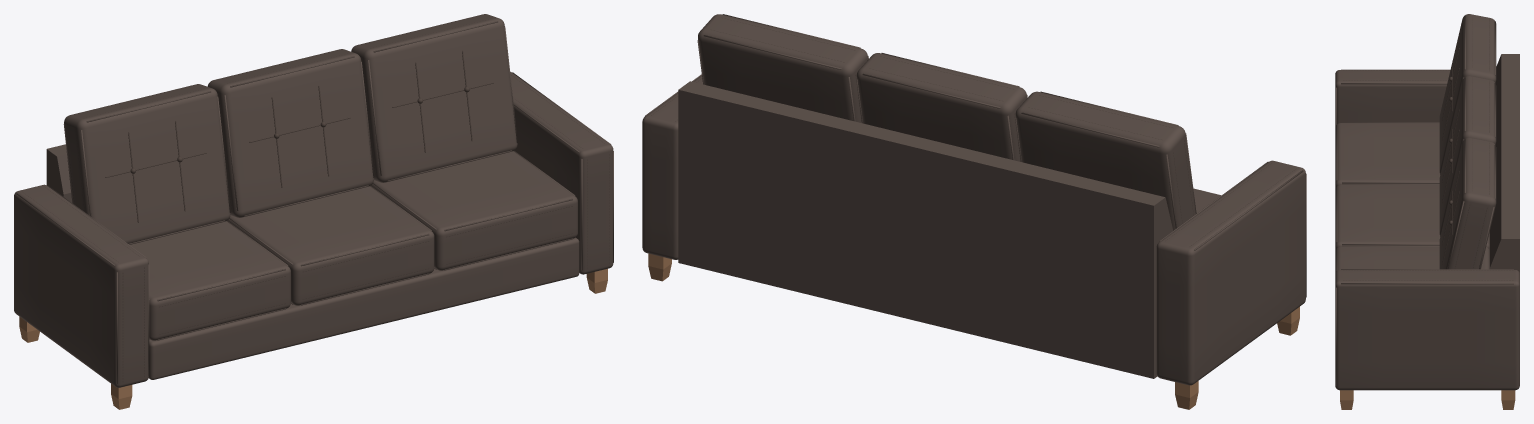
File: benza_220x80.glb
The picture shows the model from 3 angles, left to right: view 1: azimuth 30°, elevation 25°; view 2: azimuth 150°, elevation 25°; view 3: azimuth 270°, elevation 25°; orthographic projection. The views are drawn at different scales.
Visible parts, largest first — view 1: p1, p2, p0; view 2: p1, p0, p2; view 3: p1, p2, p0.
Part boxes in pixels (bbox=[...]): p1: bbox=[14, 14, 613, 387]; p2: bbox=[22, 15, 609, 382]; p0: bbox=[19, 268, 607, 409]; p1: bbox=[642, 14, 1306, 385]; p0: bbox=[648, 253, 1299, 409]; p2: bbox=[651, 17, 1296, 246]; p1: bbox=[1335, 14, 1519, 390]; p2: bbox=[1343, 17, 1513, 280]; p0: bbox=[1340, 390, 1515, 409].
Size of the model in its own units: 2.2 by 0.9642 by 0.8006.
Materials: 3 (2 with a texture image).
